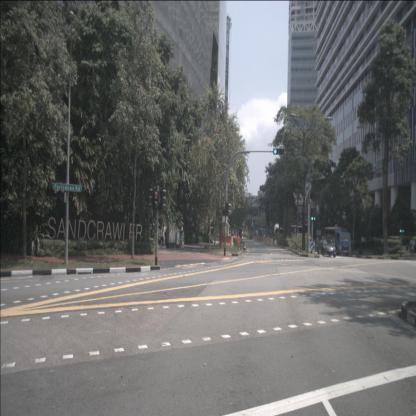human-pedestrian-adult: (179, 222, 184, 250), (410, 236, 416, 258), (161, 223, 166, 249), (405, 238, 409, 258)
movable_object-barrier: (219, 236, 232, 246), (231, 236, 234, 247), (271, 238, 274, 246)
vehicle-car: (317, 238, 336, 258)
vehicle-truck: (325, 226, 351, 257), (287, 225, 303, 245), (273, 224, 283, 242)
